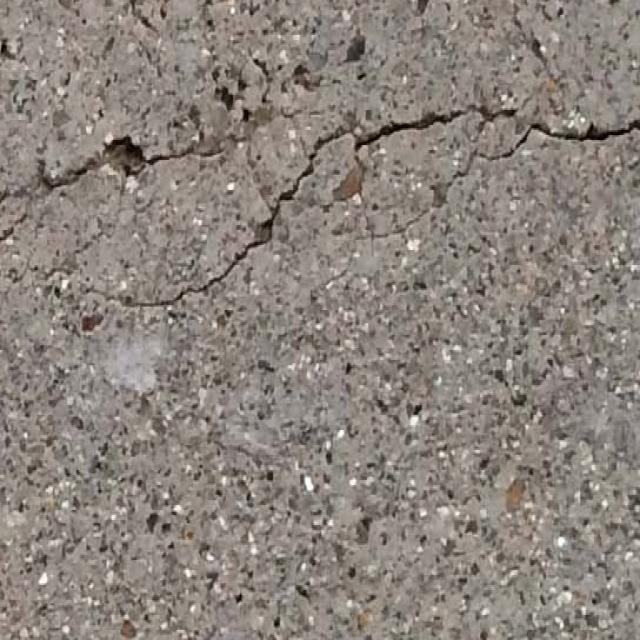crack: (116, 113, 639, 314), (2, 137, 227, 246)
spall: (100, 137, 147, 180)
